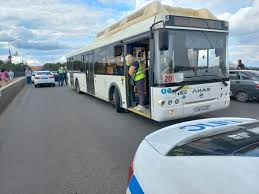Bus: (67, 2, 230, 121)
Car: (126, 117, 259, 193), (230, 70, 259, 102), (34, 71, 55, 87)
Person: (126, 54, 145, 110), (25, 67, 32, 84), (8, 70, 14, 81)
